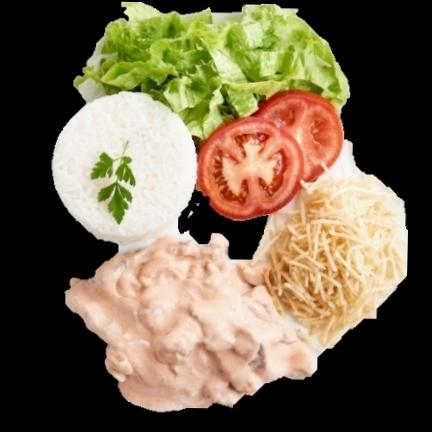chicken: (66, 234, 315, 410)
potato: (263, 171, 403, 348)
rice: (52, 92, 196, 244)
salad: (74, 2, 348, 147)
tomato: (199, 90, 343, 219)
